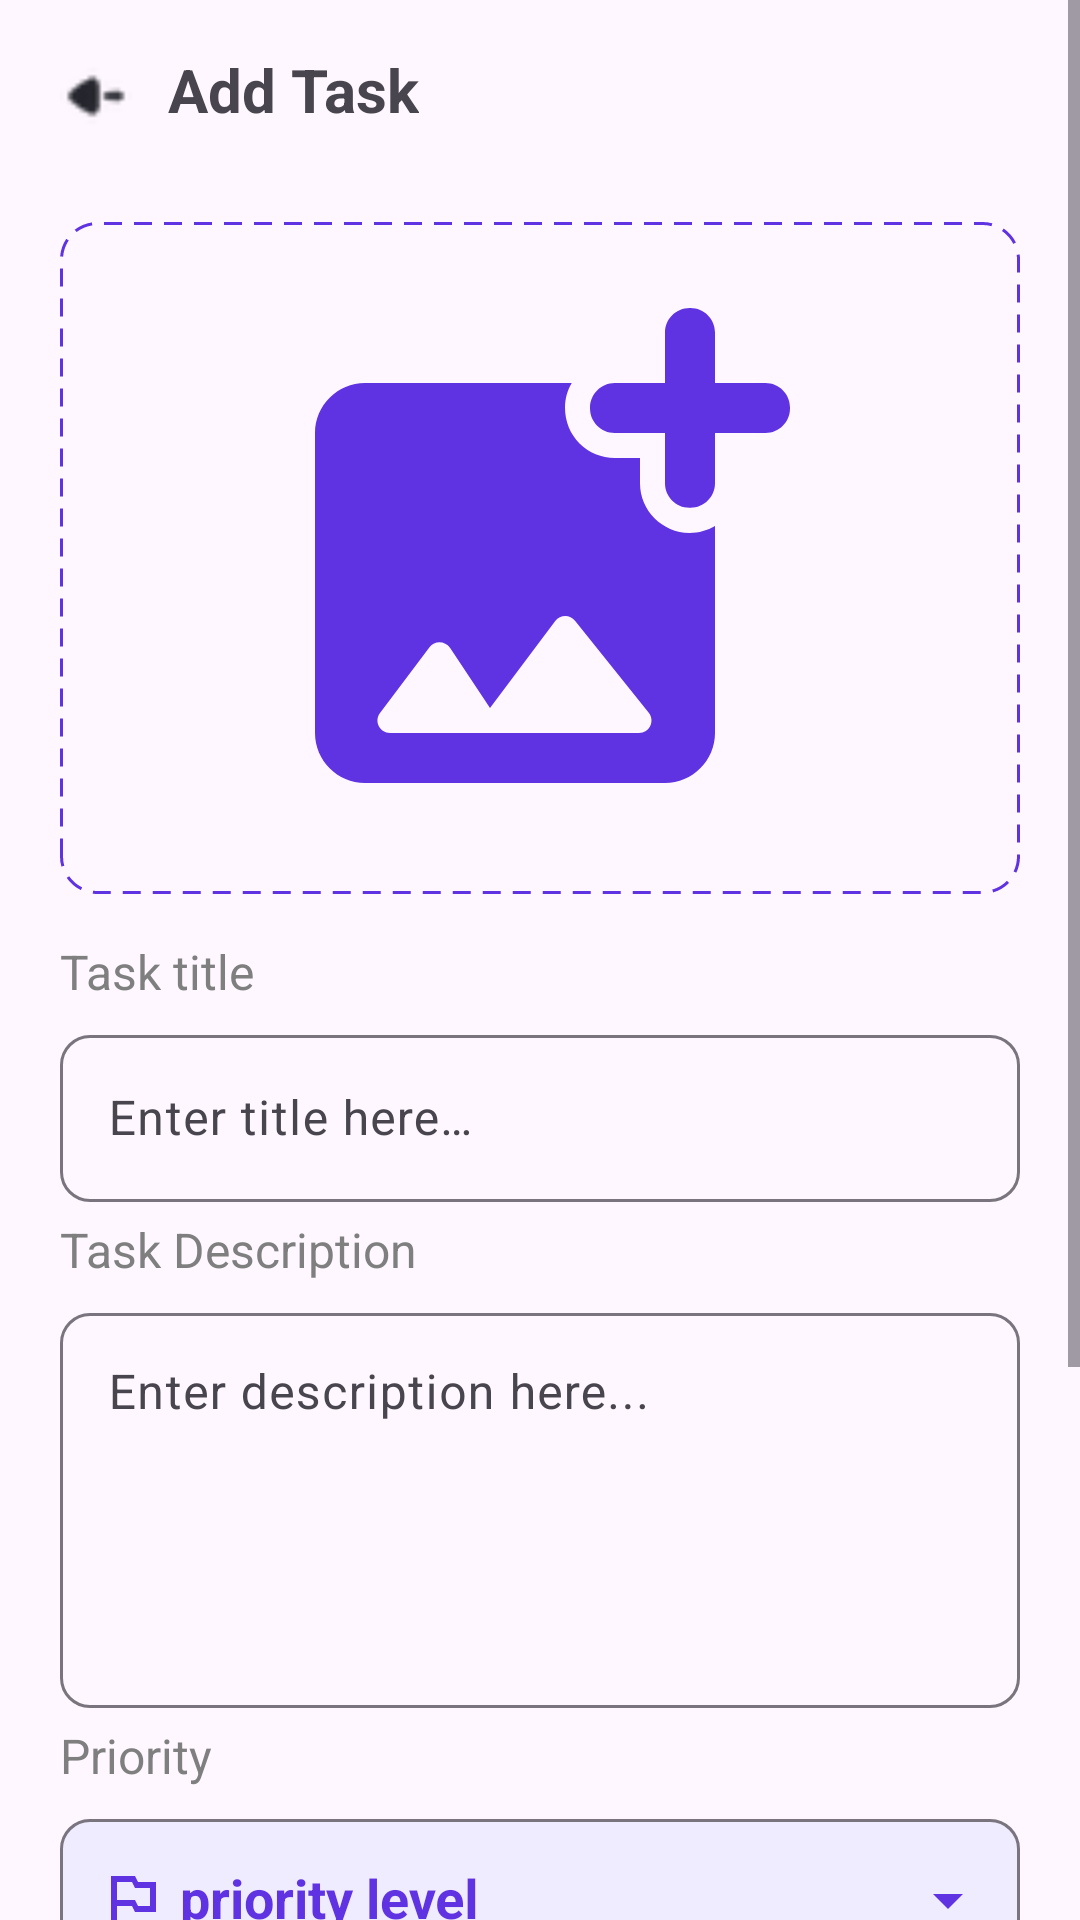

Named icons in this screenshot (1080x1920) and their centers, (x,y):
back arrow: (96,96)
